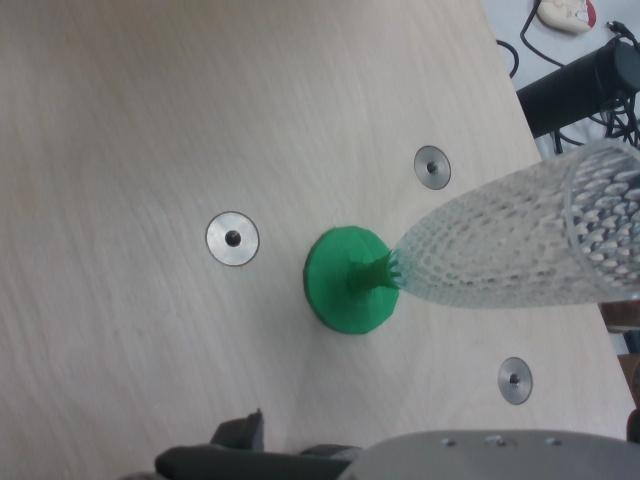green_cup: (303, 226, 400, 337)
